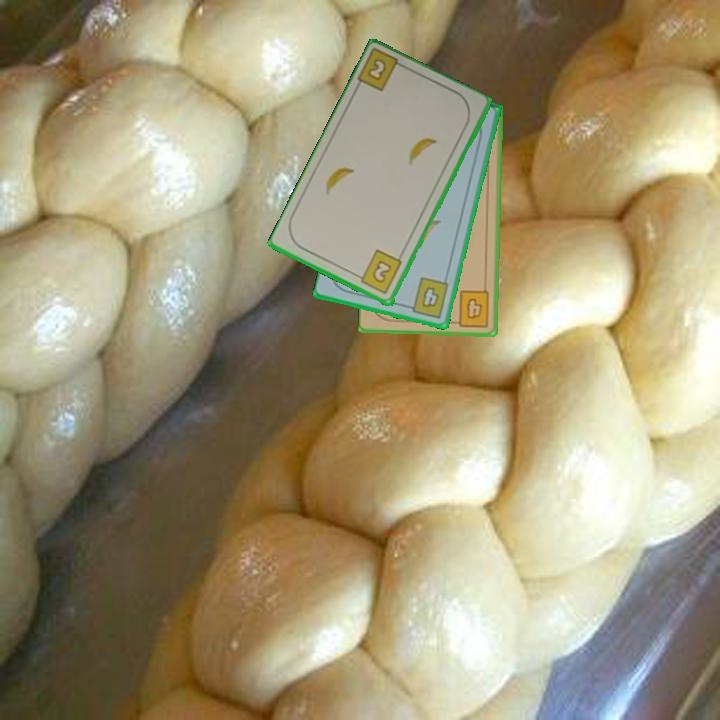2b: (352, 246, 405, 297), (355, 47, 410, 95)
4b: (403, 273, 452, 321), (449, 287, 492, 330)
